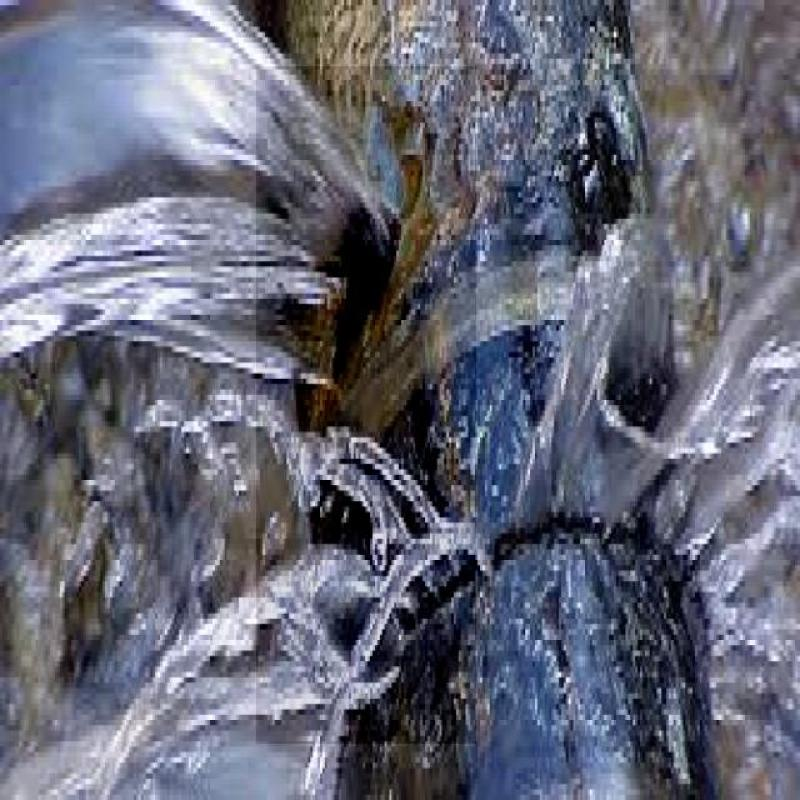Fracture: (261, 75, 630, 708)
